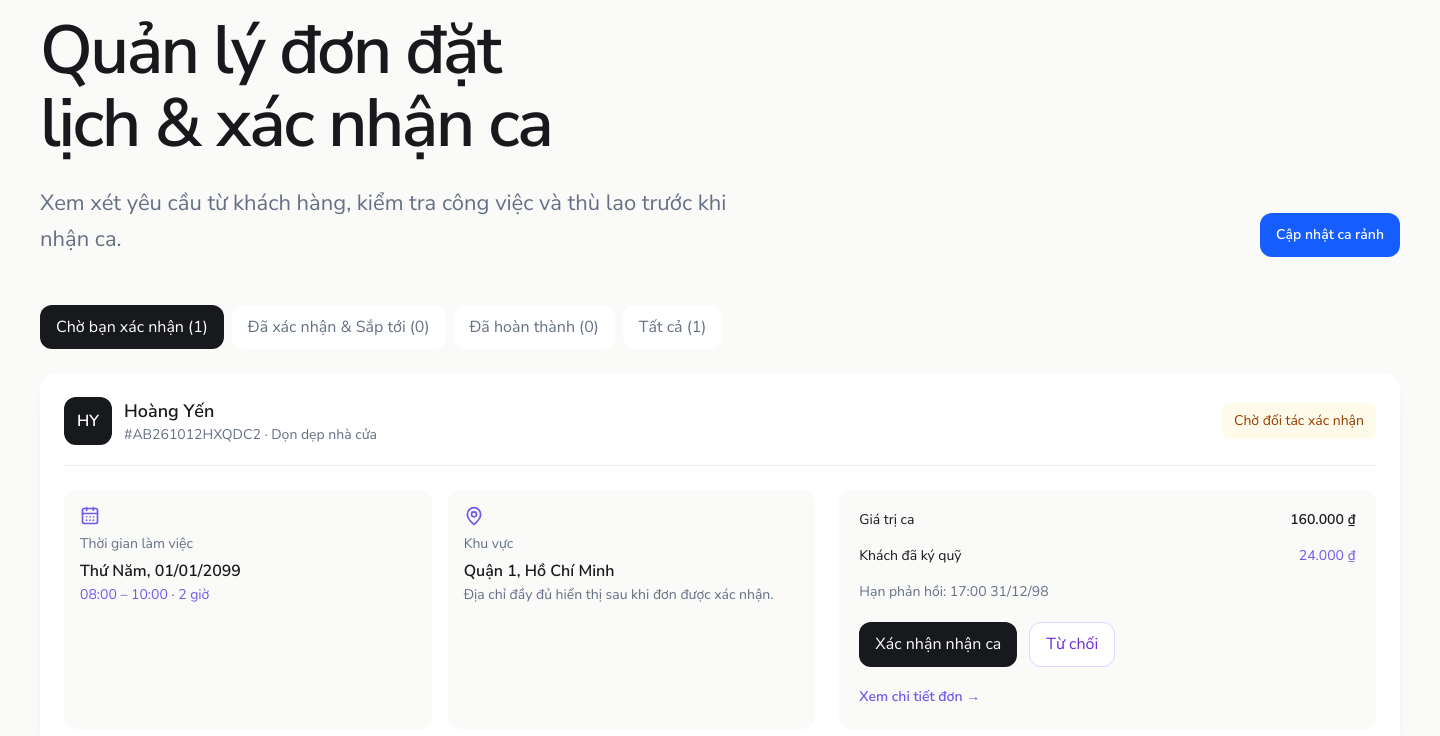
Test case: Partner screens › collects a rejection reason and lets the user cancel
Click the button "Từ chối". click: (1072, 645)
box: left=1029, top=622, right=1115, bottom=667
(page scrolled)
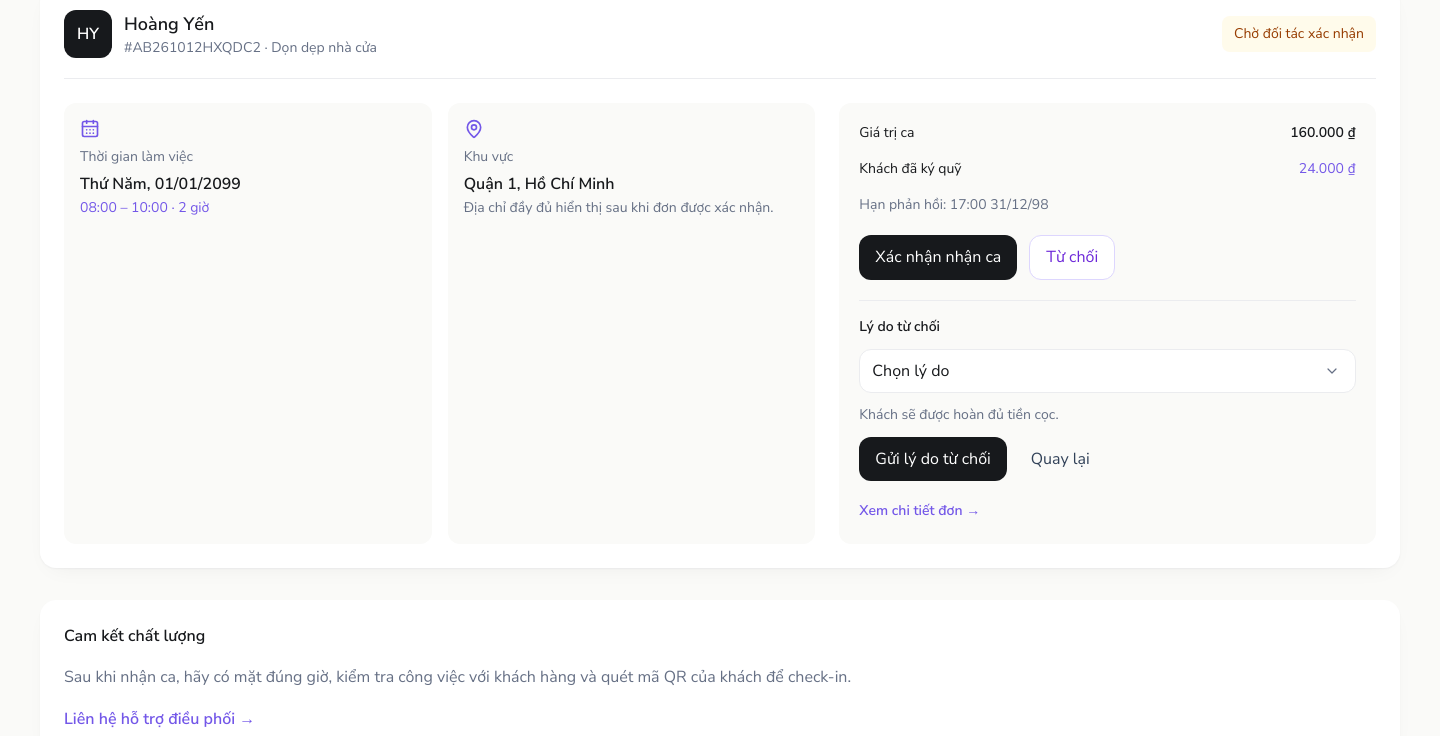
Select "Bận việc đột xuất" in the dropdown labelled "Lý do từ chối". click: (1108, 371)
box: left=859, top=349, right=1356, bottom=393
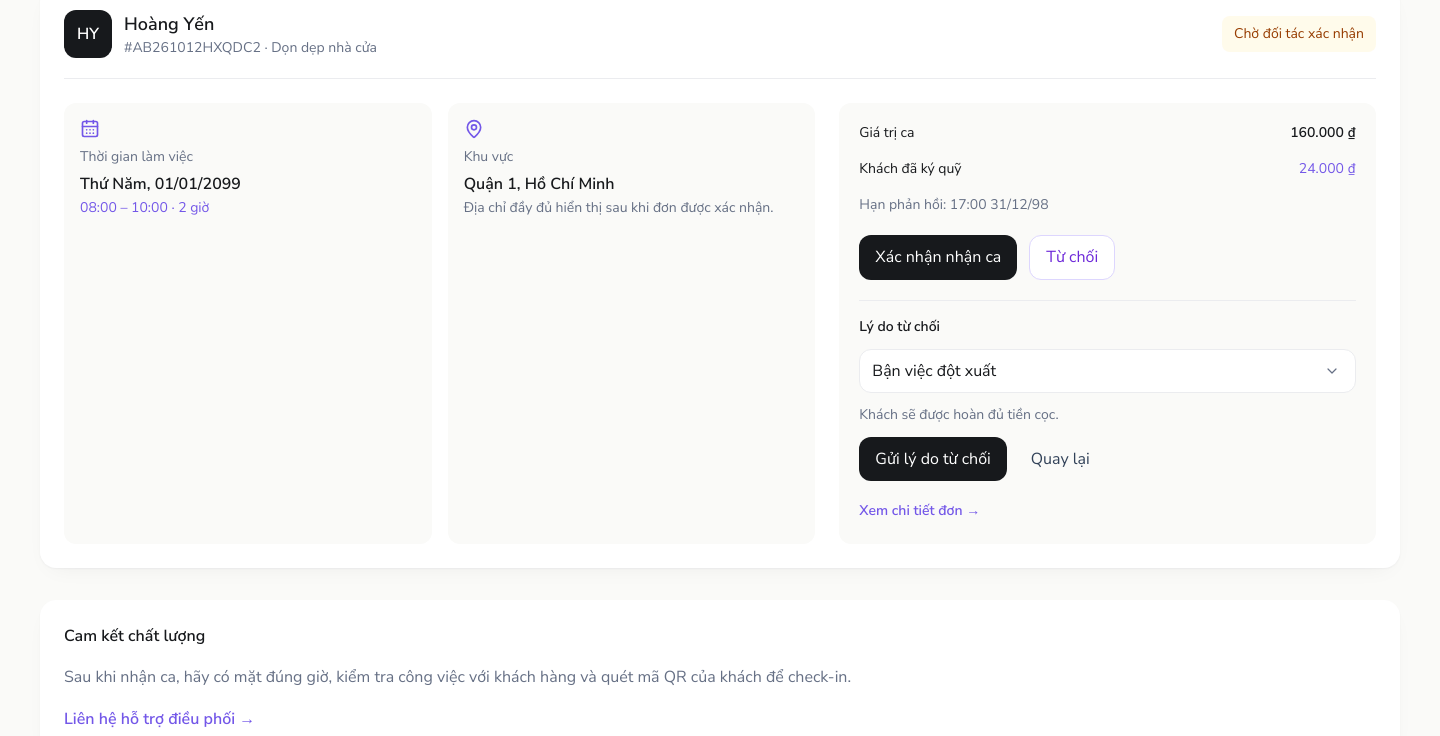
Click the button "Quay lại". click: (1060, 459)
box: left=1015, top=437, right=1106, bottom=481
(page scrolled)
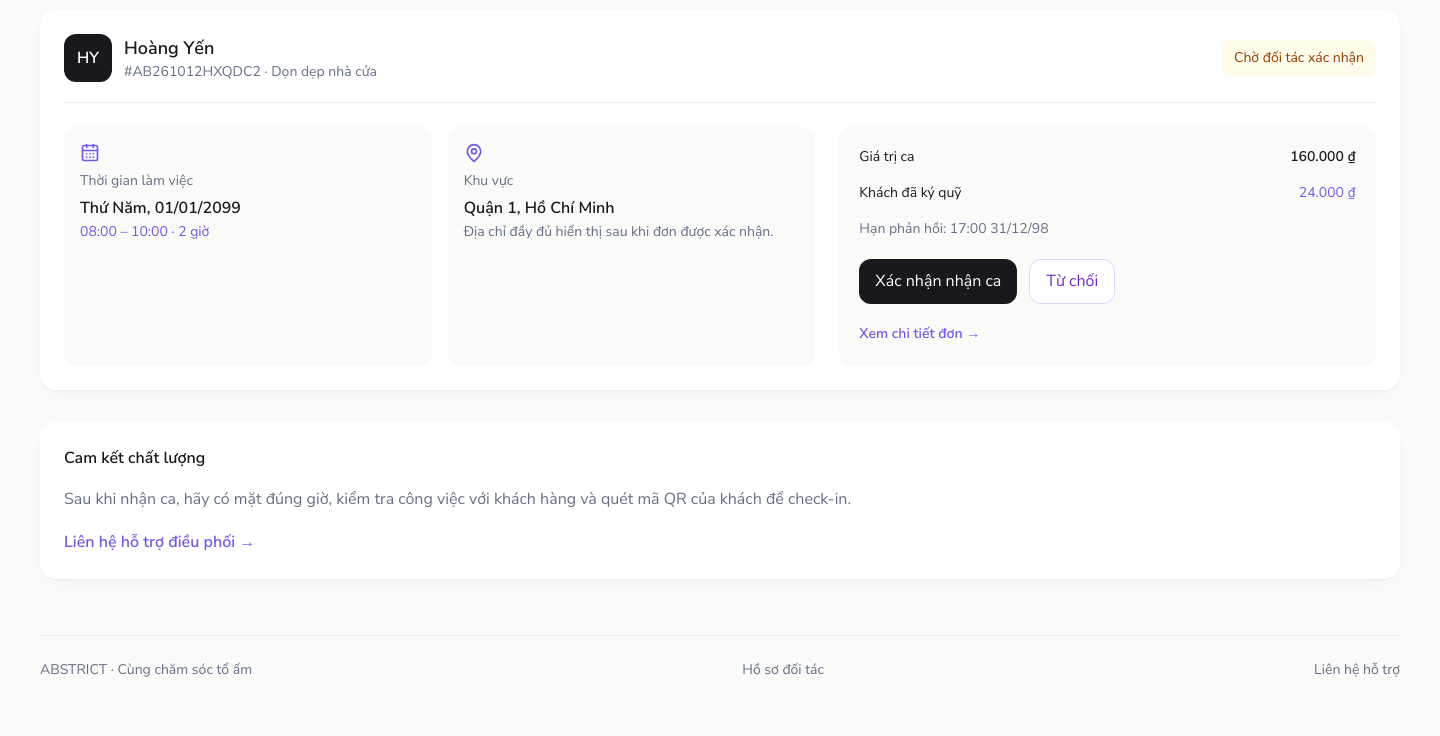
Expected: the label labelled "Lý do từ chối" is gone
